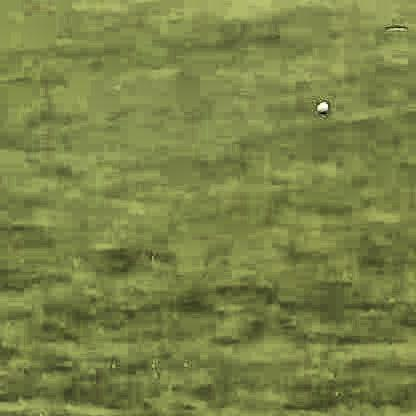golfball: (314, 100, 326, 112)
